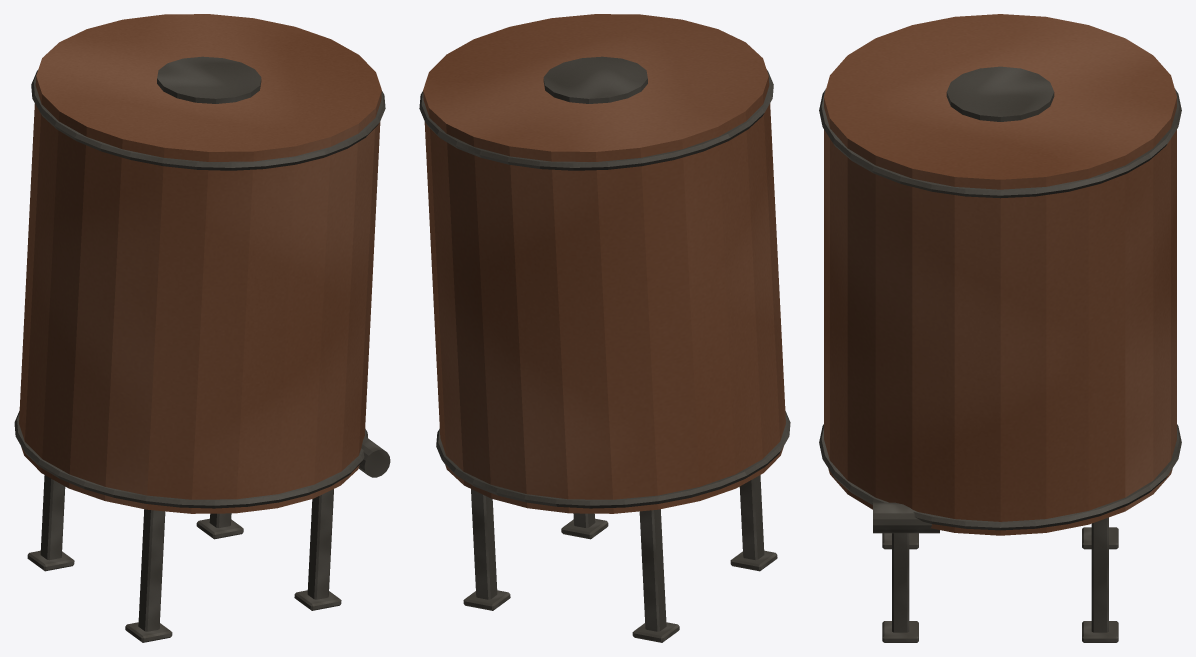
The model's file is prop_water_tank.fbx.
3 renders of one model, left to right at view 1: azimuth 30°, elevation 25°; view 2: azimuth 150°, elevation 25°; view 3: azimuth 270°, elevation 25°, orthographic. The views are drawn at different scales.
Parts seen in each view (by area): view 1: prop_water_tank; view 2: prop_water_tank; view 3: prop_water_tank.
Part boxes in pixels (left/top/right/bottom): prop_water_tank: left=14, top=14, right=390, bottom=642; prop_water_tank: left=419, top=14, right=790, bottom=642; prop_water_tank: left=819, top=14, right=1181, bottom=642.
Size of the model in its own units: 199 by 189 by 298.
1 material, 1 textured.
